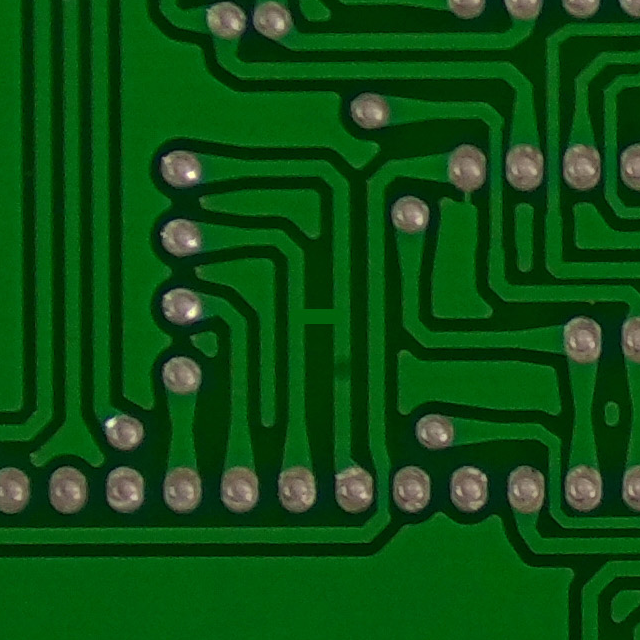short: (282, 289, 358, 351)
